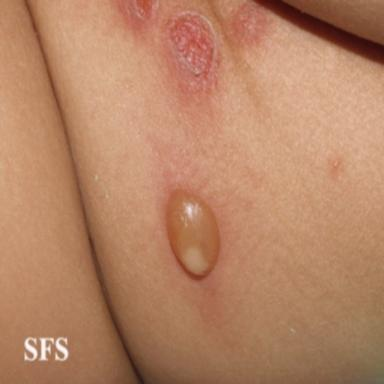Impetigo: (165, 10, 219, 106), (166, 189, 220, 279), (226, 1, 273, 51), (119, 0, 161, 23)
